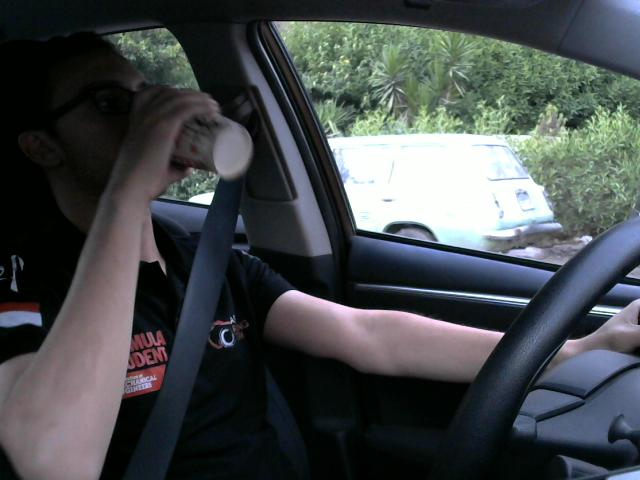Drinking: (140, 93, 260, 183)
